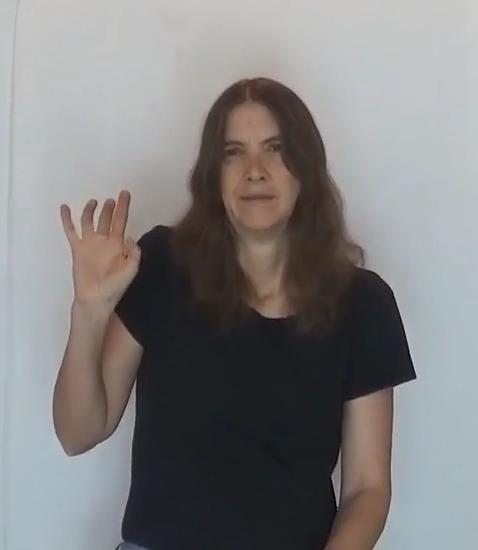Dolor: (38, 70, 448, 478)
